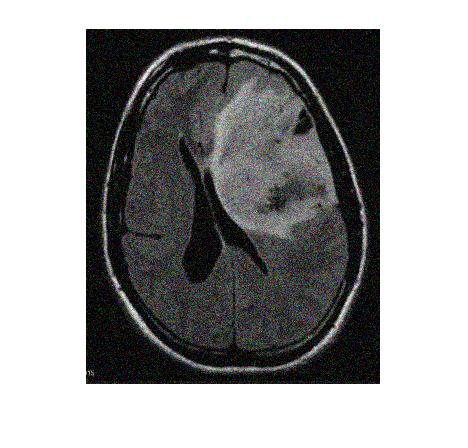Brain_Cancer: (214, 69, 332, 237)
